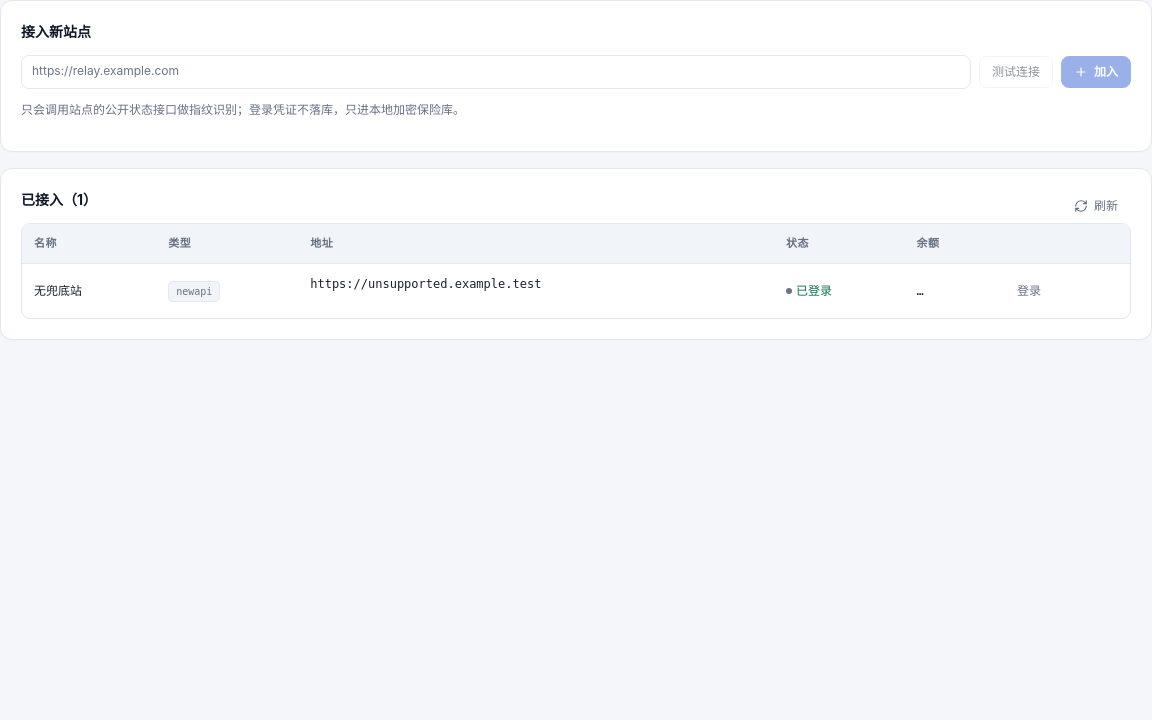
Sites 的人工验证面板（M28-S2：三态来自能力表） › unsupported 站点：只渲染「不适用」文案与取消，**不自动打开**窗口
Click the button "登录".
click(1029, 291)  # box x1=1004 y1=275 x2=1054 y2=307
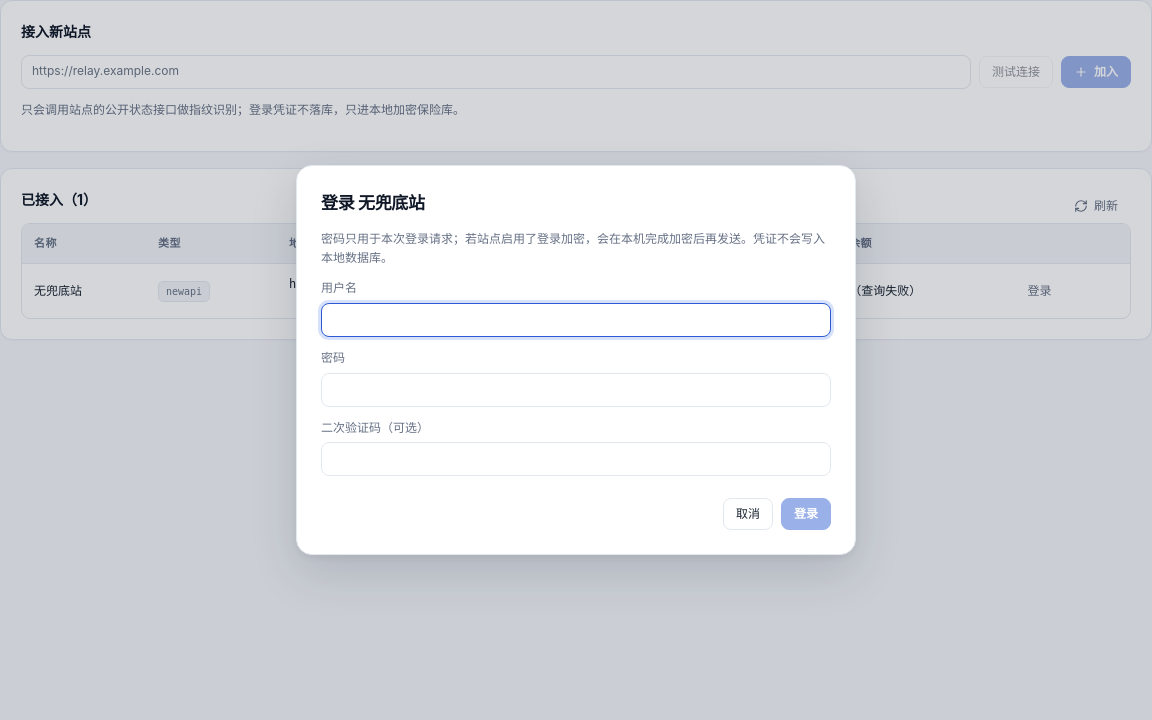
Type "me@example.test" into the field labelled "用户名".
click(576, 320); type("me@example.test")  # box x1=321 y1=303 x2=831 y2=337
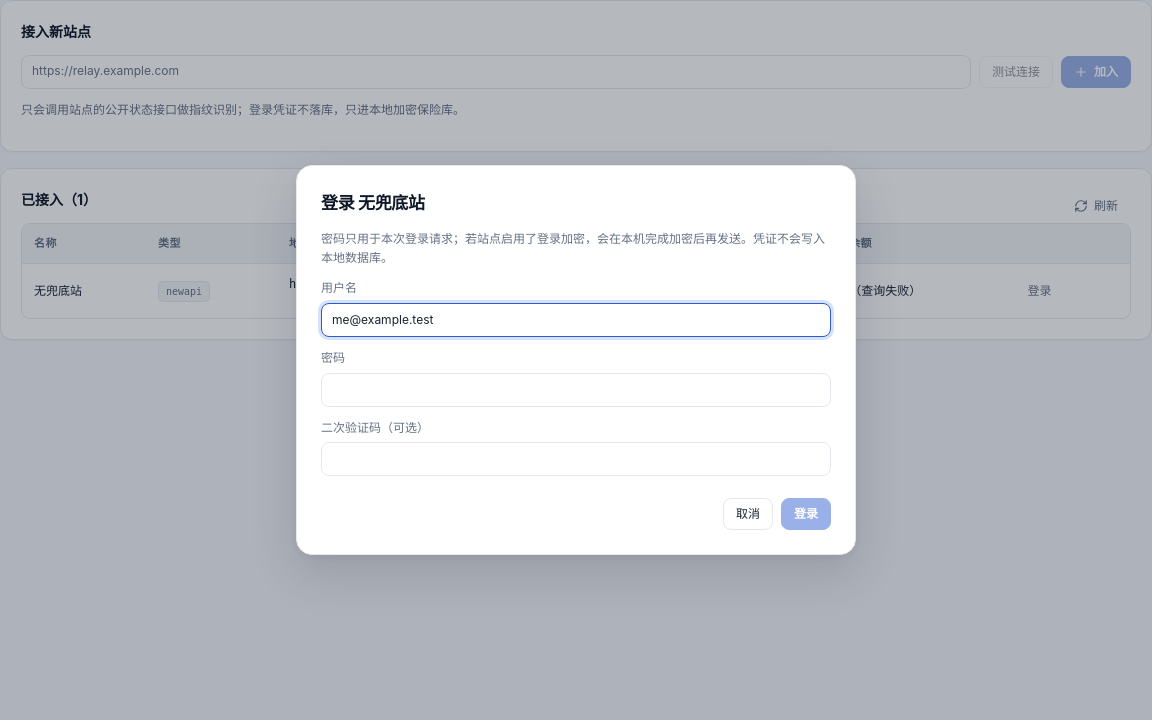
Type "pw-12345678" into the password field labelled "密码".
click(576, 390); type("pw-12345678")  # box x1=321 y1=373 x2=831 y2=407
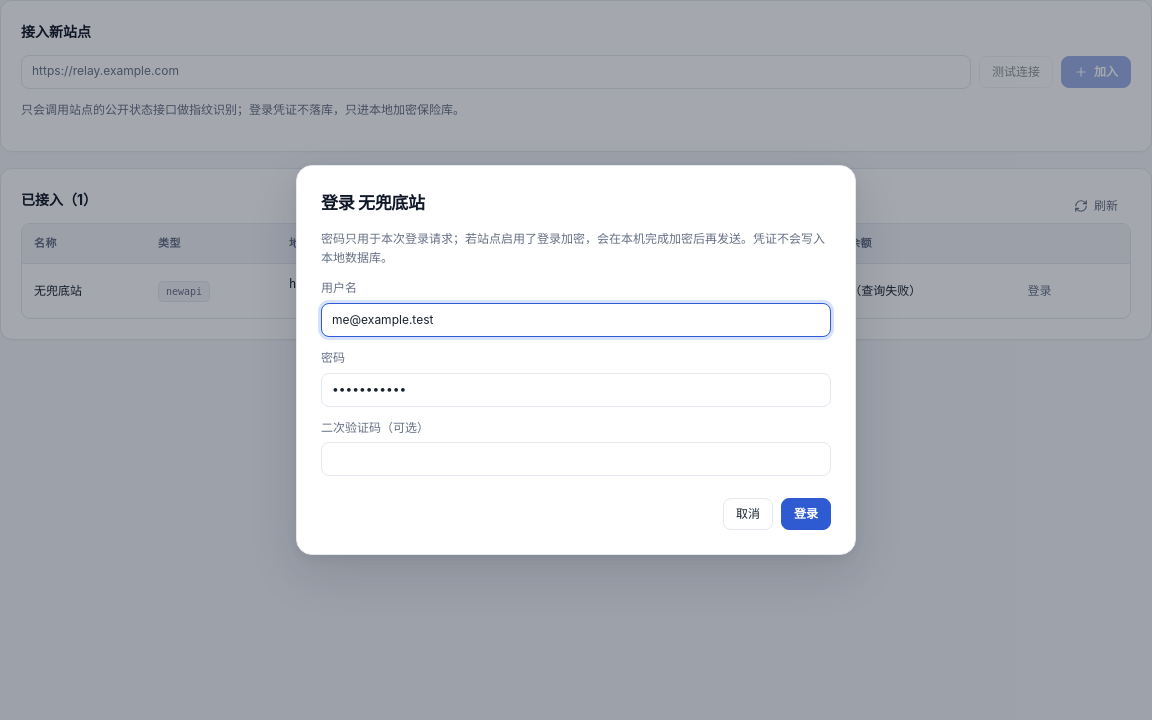
Click the button "登录".
click(806, 514)  # box x1=781 y1=498 x2=831 y2=530
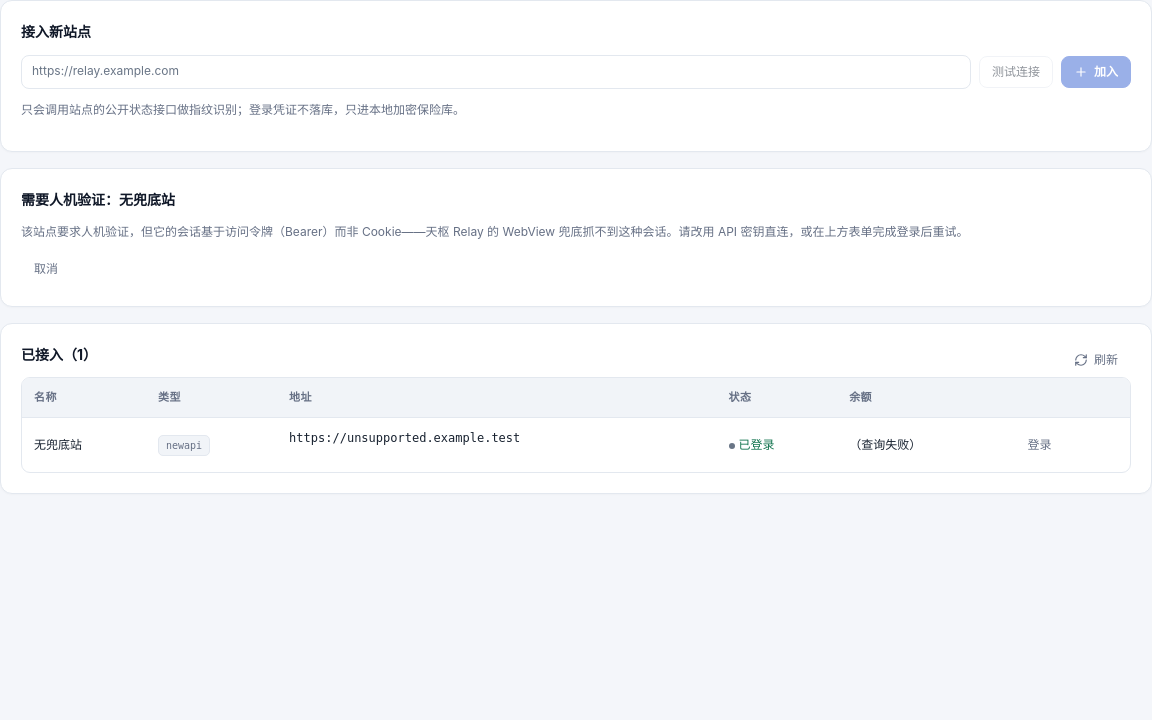
Now the button "取消" is shown, box x1=21 y1=254 x2=71 y2=286
Now the text "该站点要求人机验证，但它的会话基于访问令牌（Bearer）而非 Cookie——天枢 Relay 的 WebView 兜底抓不到这种会话。请改用 API 密钥直连，或在上方表单完成登录后重试。" is shown, box x1=21 y1=224 x2=968 y2=239
